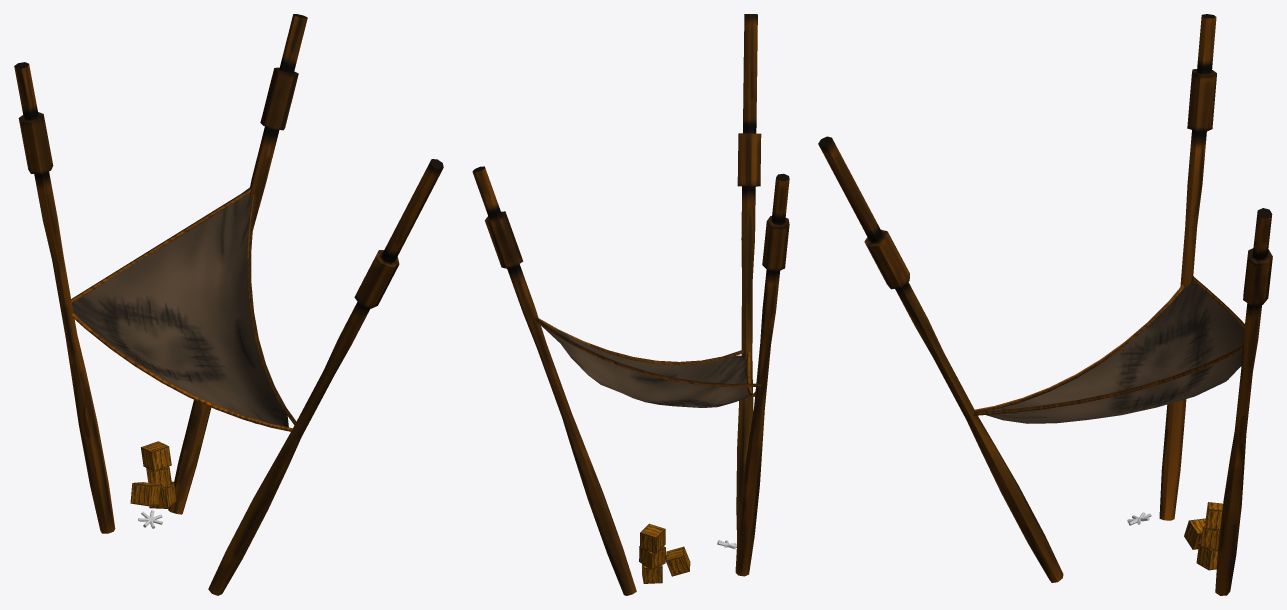
The model's file is ExpeditionCamp.FBX.
3 views of the same model, side by side, from view 1: azimuth 30°, elevation 25°; view 2: azimuth 150°, elevation 25°; view 3: azimuth 270°, elevation 25° (orthographic). The views are drawn at different scales.
Parts seen in each view (by area): view 1: camp miningsite001, C002, C003; view 2: camp miningsite001, C002, C003, Crates; view 3: camp miningsite001.
Part boxes in pixels (<box>): camp miningsite001: <box>14,14,443,595</box>; C002: <box>141,441,171,471</box>; C003: <box>130,482,160,506</box>; camp miningsite001: <box>472,14,789,595</box>; C002: <box>640,523,665,553</box>; C003: <box>666,546,690,576</box>; Crates: <box>639,546,665,569</box>; camp miningsite001: <box>818,14,1272,595</box>.
Bounding box in the file's own units: 1773 × 2167 × 2667.
